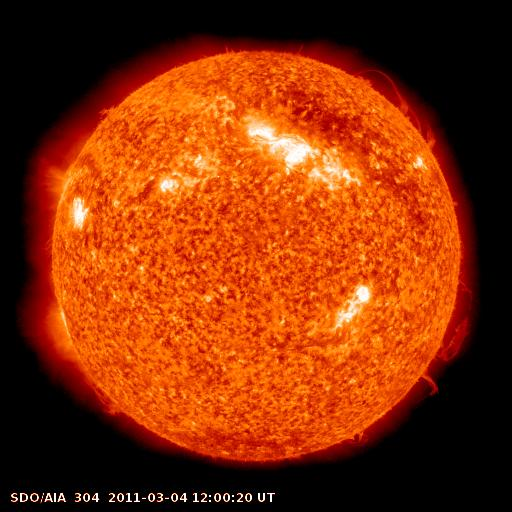prominence: (411, 274, 490, 400), (346, 60, 441, 153), (75, 366, 128, 423), (336, 423, 383, 460), (86, 96, 130, 131)
